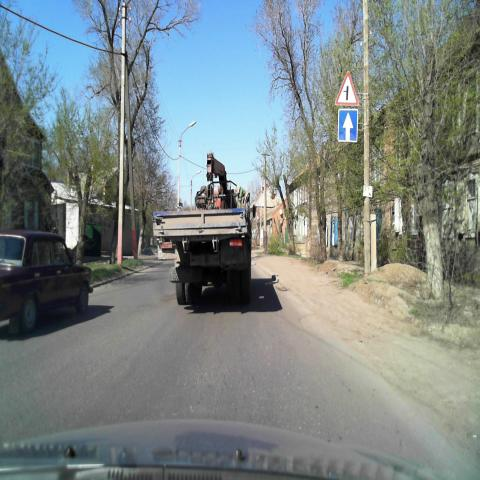2_3_3: (334, 70, 360, 106)
